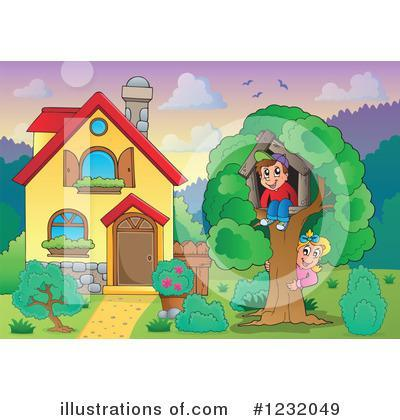person: (266, 226, 336, 292), (250, 149, 299, 231)
pottedplant: (149, 258, 194, 313)
